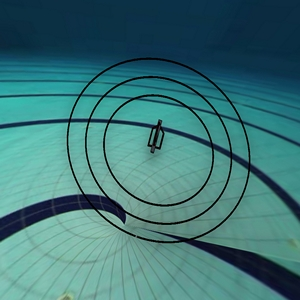circle: (60, 45, 260, 253)
submarine: (138, 115, 178, 160)
